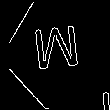M_S: (33, 25, 85, 81)
